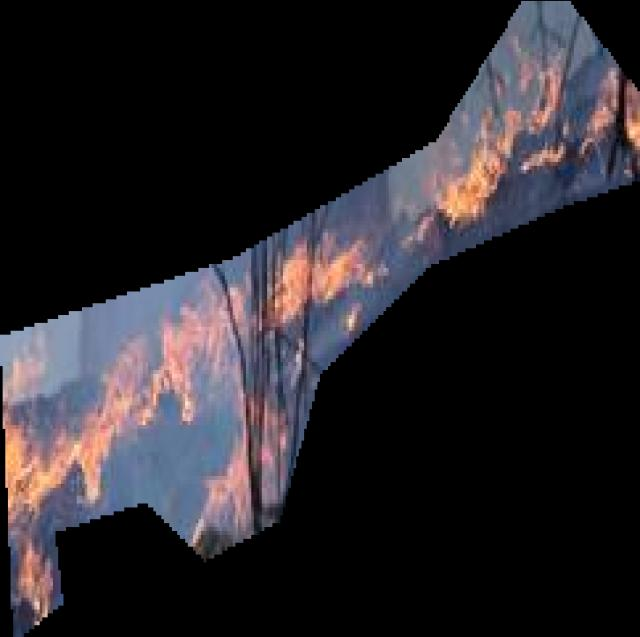fire: (1, 0, 640, 637)
